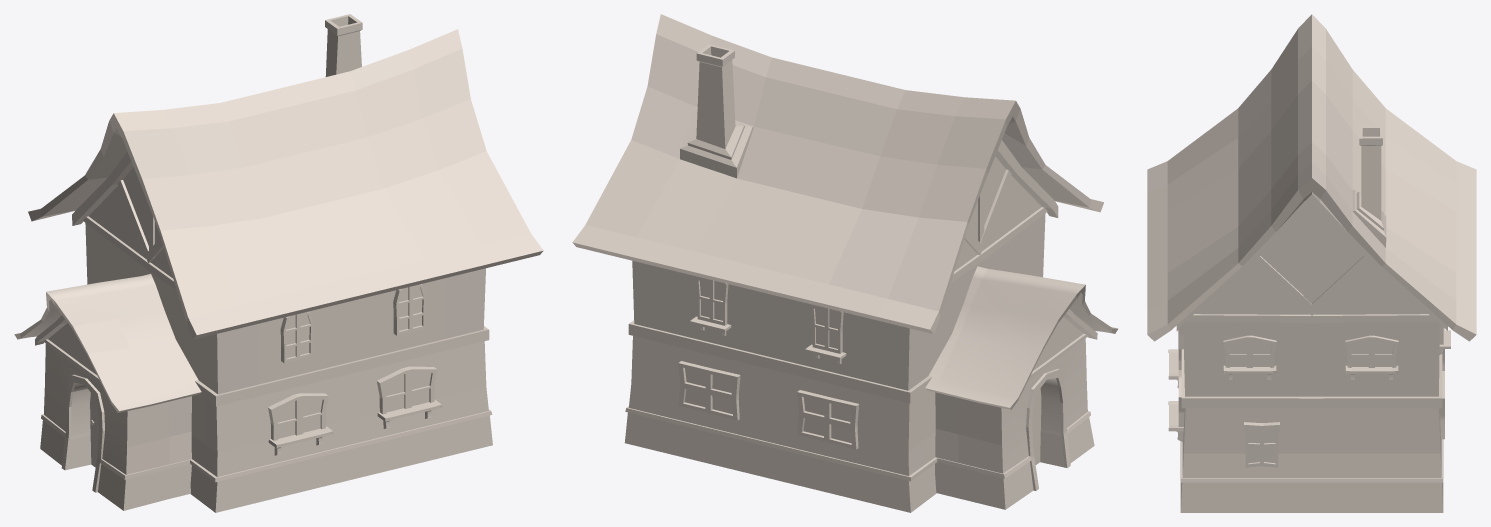
File: House 7.fbx
The picture shows the model from 3 angles, left to right: view 1: azimuth 30°, elevation 25°; view 2: azimuth 150°, elevation 25°; view 3: azimuth 270°, elevation 25°; orthographic projection. The views are drawn at different scales.
Parts seen in each view (by area): view 1: pasted__pasted__pasted__polySurface550; view 2: pasted__pasted__pasted__polySurface550; view 3: pasted__pasted__pasted__polySurface550.
Boxes of the visible parts, x1=… form: pasted__pasted__pasted__polySurface550: x1=14, y1=14, x2=543, y2=512; pasted__pasted__pasted__polySurface550: x1=572, y1=14, x2=1117, y2=512; pasted__pasted__pasted__polySurface550: x1=1147, y1=14, x2=1476, y2=512.
Bounding box in the file's own units: 824 × 695 × 583.
